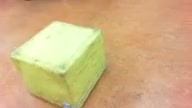cube: (11, 20, 107, 108)
